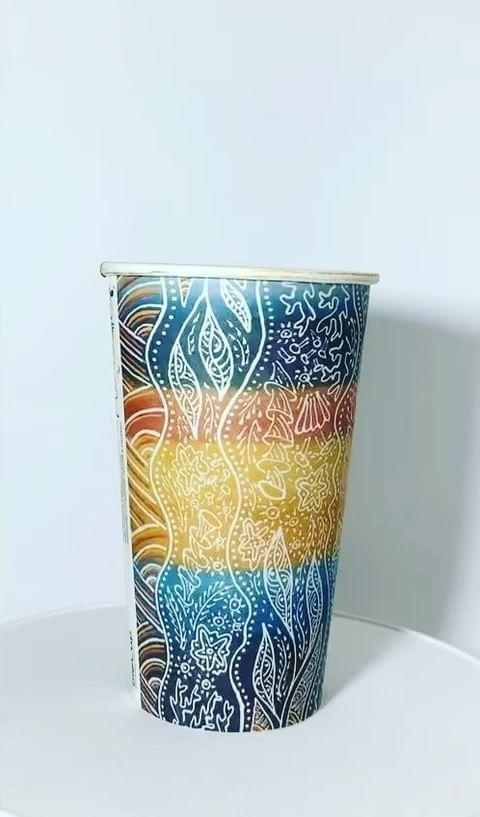cup-disposable: (95, 245, 381, 753)
